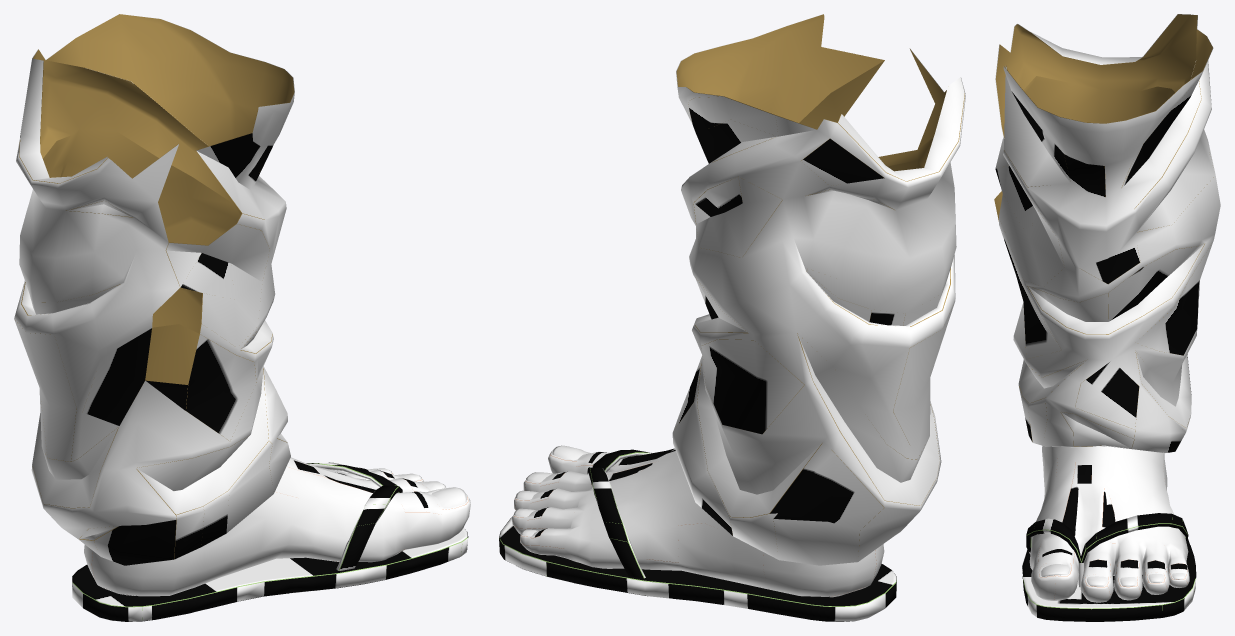
File: PiernaDerecha_Roshi.obj
3 renders of one model, left to right at view 1: azimuth 30°, elevation 25°; view 2: azimuth 150°, elevation 25°; view 3: azimuth 270°, elevation 25°, orthographic. The views are drawn at different scales.
Parts seen in each view (by area): view 1: master_roshi_buff:Mesh; view 2: master_roshi_buff:Mesh; view 3: master_roshi_buff:Mesh.
Part boxes in pixels (x1=…): master_roshi_buff:Mesh: x1=14, y1=14, x2=470, y2=621; master_roshi_buff:Mesh: x1=499, y1=14, x2=965, y2=621; master_roshi_buff:Mesh: x1=994, y1=14, x2=1220, y2=621.
Size of the model in its own units: 1.14 by 1.38 by 0.6105.
2 materials, 2 textured.
